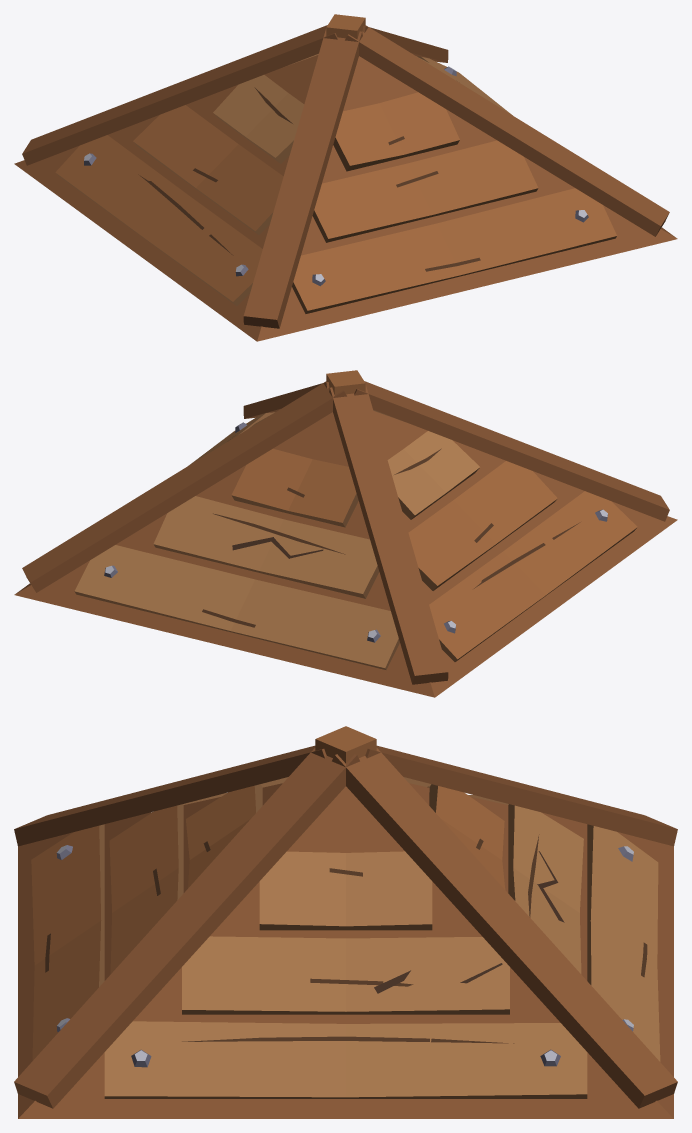
The model's file is cone_plank_crack1.glb.
3 views of the same model, one above another, from view 1: azimuth 30°, elevation 25°; view 2: azimuth 150°, elevation 25°; view 3: azimuth 270°, elevation 25° (orthographic). The views are drawn at different scales.
Visible parts, largest first — view 1: Body; view 2: Body; view 3: Body.
Boxes of the visible parts, x1=… form: Body: x1=14, y1=14, x2=677, y2=341; Body: x1=14, y1=370, x2=677, y2=697; Body: x1=14, y1=726, x2=677, y2=1118.
Bounding box in the file's own units: 3.99 × 1.6 × 3.99.
